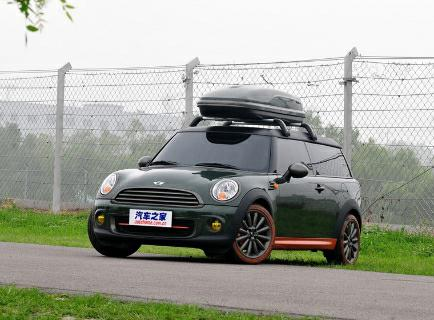MINI CLUBMAN: (86, 108, 369, 264)
